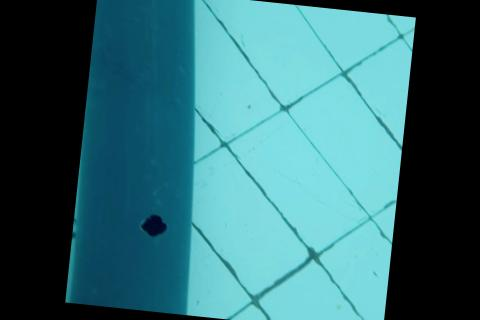kebocoran: (134, 212, 169, 239)
